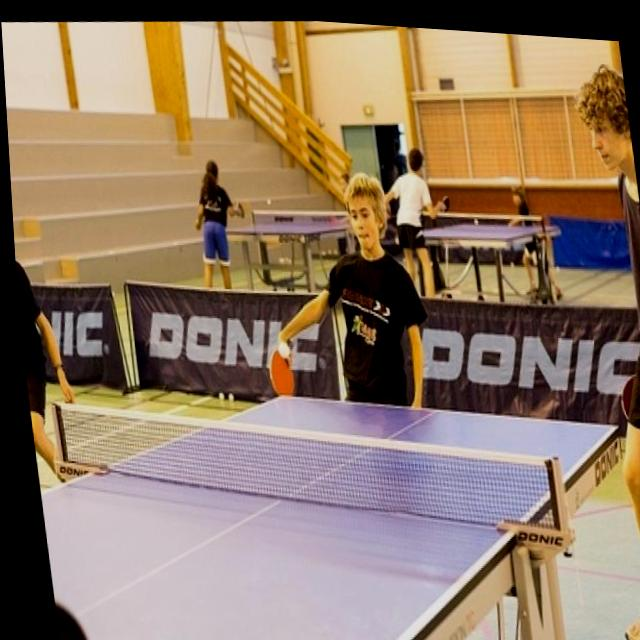TT Net: (45, 394, 578, 552), (410, 209, 547, 238), (250, 208, 363, 230)
TT Racket: (257, 343, 305, 404), (606, 368, 640, 427), (234, 200, 247, 221)
TT Table: (40, 395, 616, 640), (205, 218, 388, 236), (396, 223, 560, 241)
